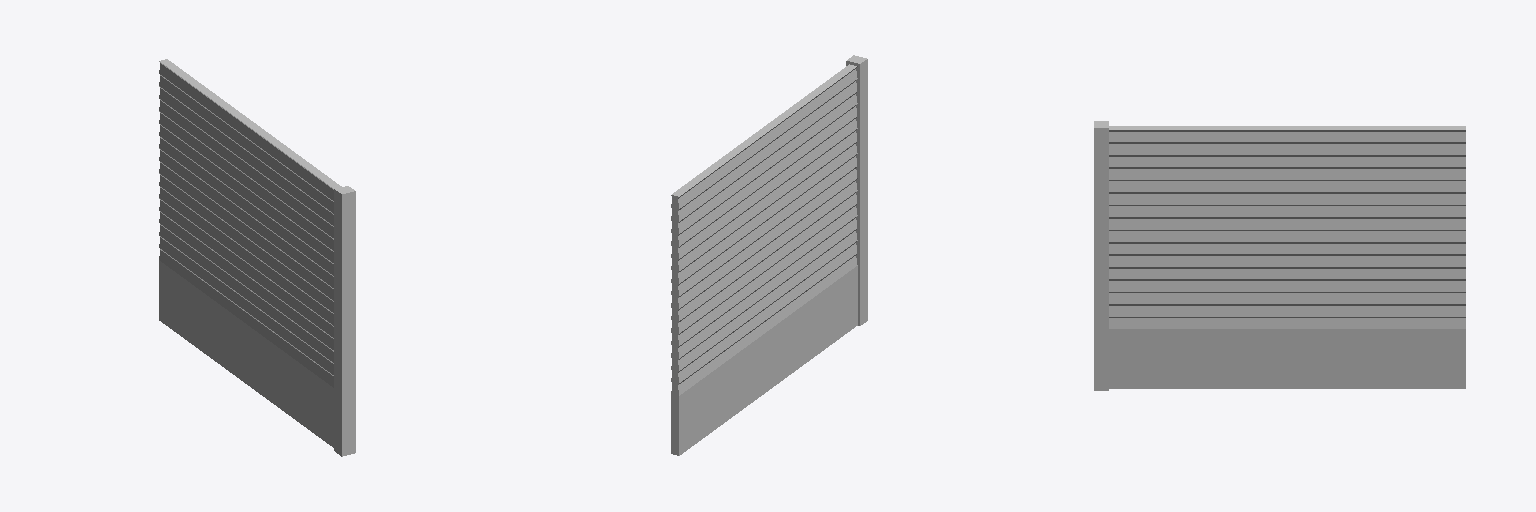
File: schallschutzmauer holz.obj
The picture shows the model from 3 angles: view 1: azimuth 30°, elevation 25°; view 2: azimuth 150°, elevation 25°; view 3: azimuth 270°, elevation 25°; orthographic projection.
Size of the model in its own units: 0.1727 by 3.12 by 4.